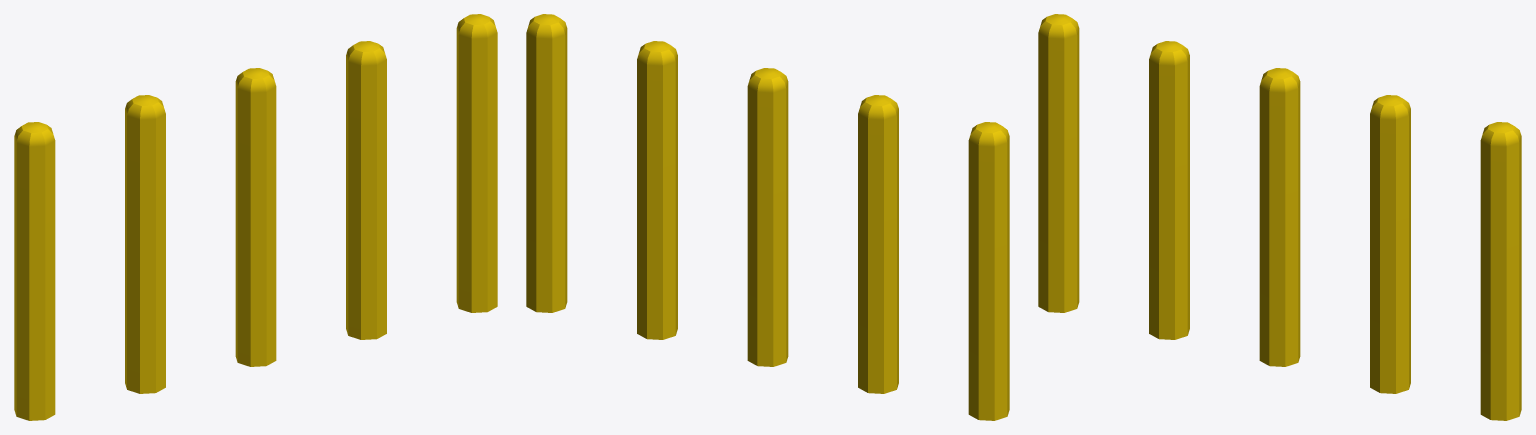
The model's file is 40 Poll.fbx.
3 views of the same model, side by side, from view 1: azimuth 30°, elevation 25°; view 2: azimuth 150°, elevation 25°; view 3: azimuth 330°, elevation 25° (orthographic).
Parts seen in each view (by area): view 1: Poll; view 2: Poll; view 3: Poll.
Part boxes in pixels (x1,y1,x2,y2): Poll: [14, 14, 497, 420]; Poll: [526, 14, 1009, 420]; Poll: [1038, 14, 1521, 420].
Bounding box in the file's own units: 44.11 × 25.21 × 3.38.
